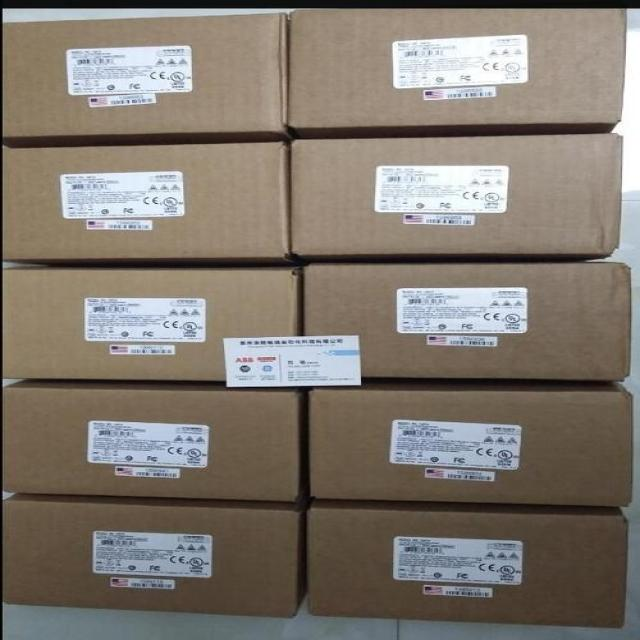box: (288, 8, 628, 139), (290, 133, 624, 262), (310, 377, 633, 506), (307, 500, 630, 629), (2, 12, 295, 146), (1, 493, 313, 618), (303, 263, 630, 382), (2, 142, 308, 267), (2, 379, 302, 503), (1, 266, 303, 381)
